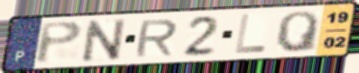2: (180, 14, 221, 59)
L: (232, 13, 268, 56)
N: (80, 17, 128, 64)
P: (34, 19, 85, 65)
Q: (274, 10, 320, 54)
R: (132, 17, 180, 58)
